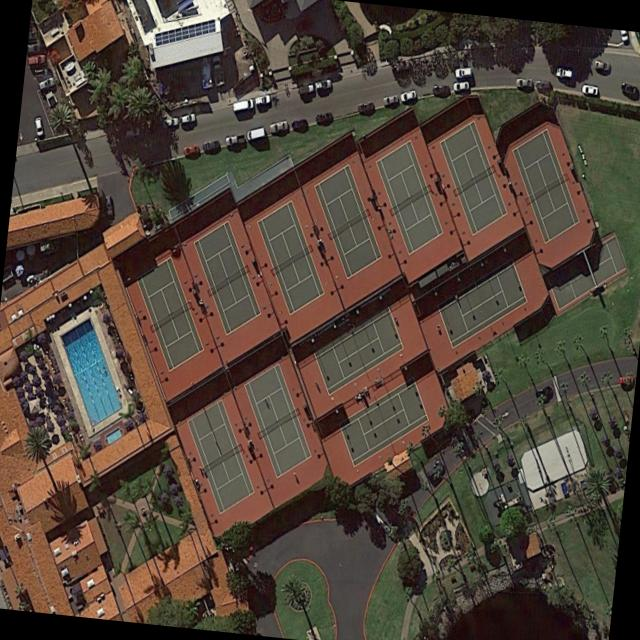large-vehicle: (233, 98, 254, 112), (225, 133, 245, 145), (247, 127, 265, 140)
small-vehicle: (210, 53, 225, 85), (428, 461, 447, 485), (535, 383, 553, 402), (253, 92, 271, 107), (38, 75, 56, 90), (269, 119, 288, 133), (27, 51, 46, 65), (290, 116, 308, 130), (316, 109, 333, 123), (104, 195, 114, 218), (357, 100, 375, 112), (34, 115, 44, 136), (400, 89, 416, 102), (202, 138, 219, 150), (182, 144, 199, 156), (315, 78, 331, 90), (619, 375, 635, 387), (582, 83, 598, 95), (123, 126, 140, 137), (455, 67, 472, 78), (163, 116, 178, 128), (620, 82, 636, 93), (594, 59, 610, 70), (556, 66, 572, 77), (534, 79, 551, 89), (299, 83, 314, 94), (180, 112, 195, 123), (383, 94, 398, 105), (433, 83, 448, 94), (453, 80, 469, 90), (516, 78, 532, 87)
